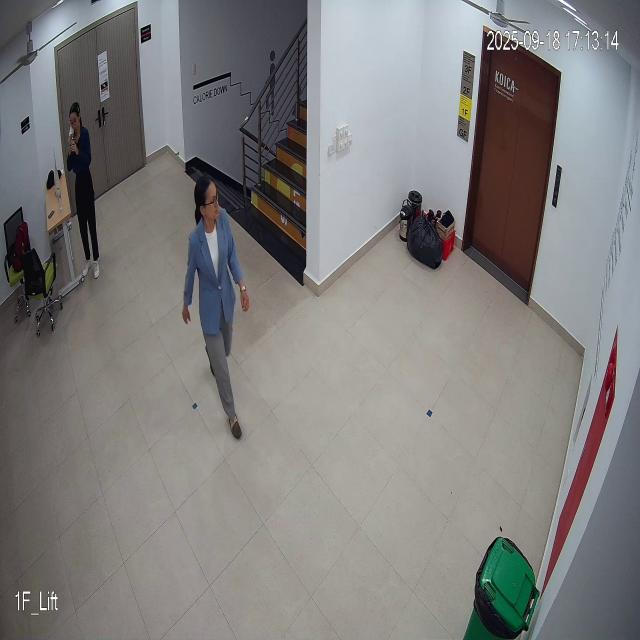face: (193, 177, 222, 229)
